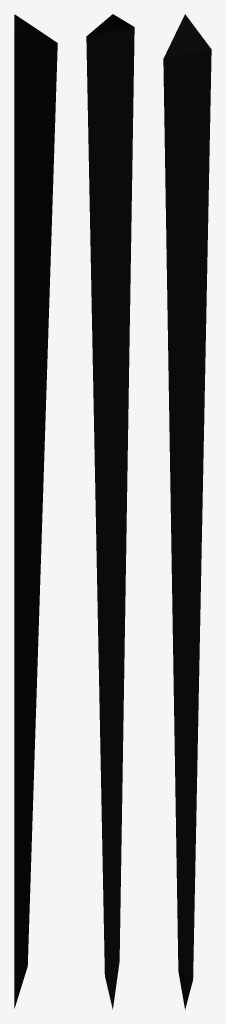
3 renders of one model, left to right at view 1: azimuth 90°, elevation 25°; view 2: azimuth 150°, elevation 25°; view 3: azimuth 330°, elevation 25°, orthographic.
Bounding box in the file's own units: 0.000568 × 0.0204 × 0.000809.
1 material, 1 textured.
